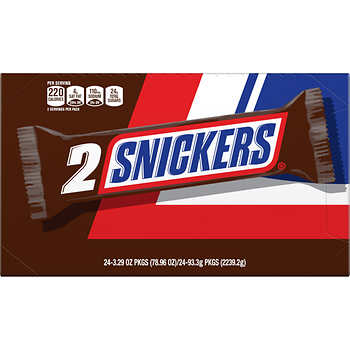snickers: (107, 120, 276, 183)
